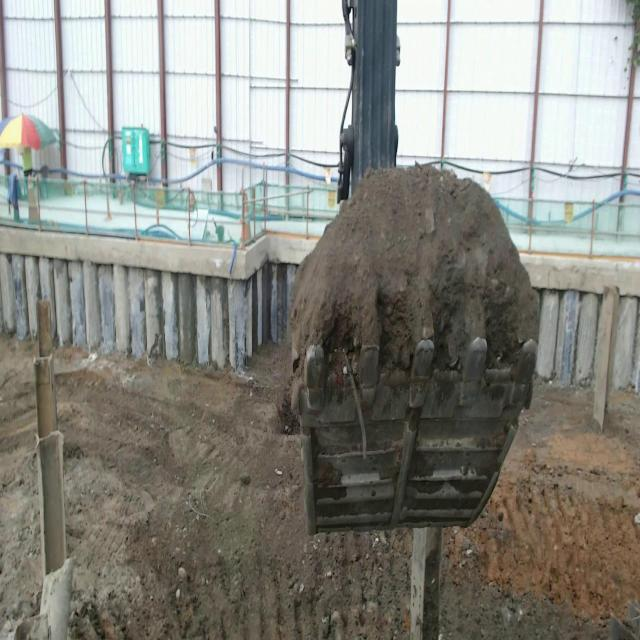white-sand: (55, 345, 413, 639), (289, 165, 538, 382), (438, 378, 640, 639), (0, 338, 42, 639)
